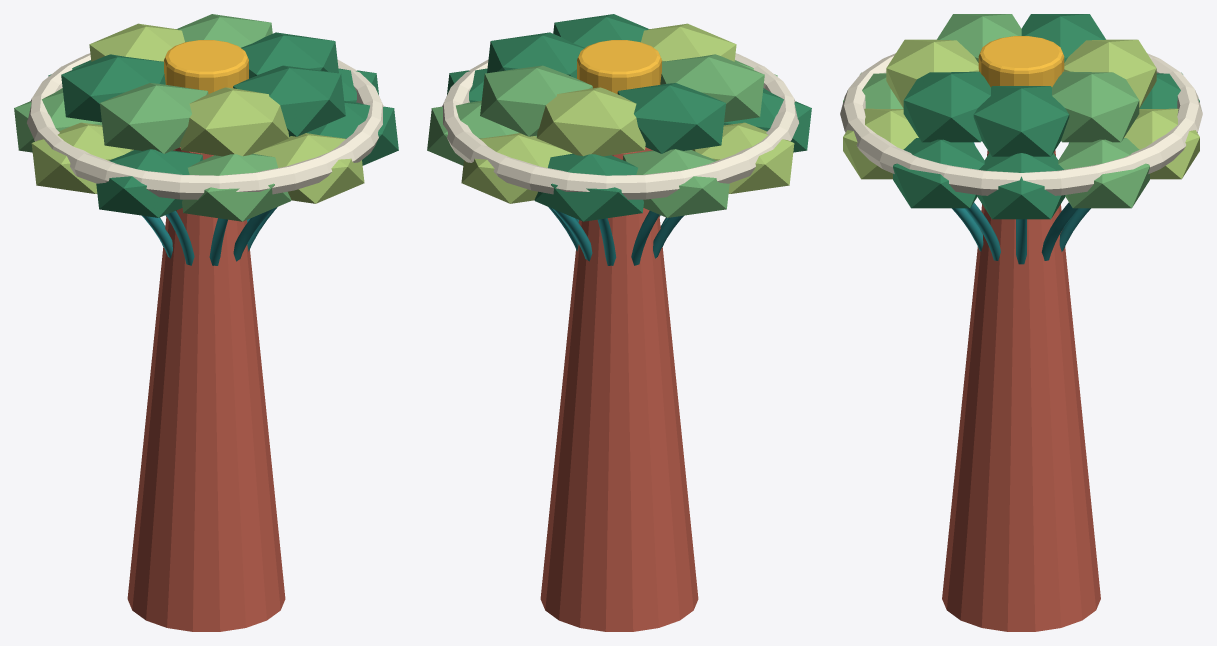
File: supertree-v2.glb
3 renders of one model, left to right at view 1: azimuth 30°, elevation 25°; view 2: azimuth 150°, elevation 25°; view 3: azimuth 270°, elevation 25°, orthographic.
Parts seen in each view (by area): view 1: SUPERTREE GROVE KIT · Terracotta, SUPERTREE GROVE KIT · Plant deep, SUPERTREE GROVE KIT · Plant lime, SUPERTREE GROVE KIT · Plant mid, SUPERTREE GROVE KIT · Chalk, SUPERTREE GROVE KIT · Signal yellow, SUPERTREE GROVE KIT · Deep teal; view 2: SUPERTREE GROVE KIT · Terracotta, SUPERTREE GROVE KIT · Plant deep, SUPERTREE GROVE KIT · Plant lime, SUPERTREE GROVE KIT · Plant mid, SUPERTREE GROVE KIT · Chalk, SUPERTREE GROVE KIT · Signal yellow, SUPERTREE GROVE KIT · Deep teal; view 3: SUPERTREE GROVE KIT · Terracotta, SUPERTREE GROVE KIT · Plant deep, SUPERTREE GROVE KIT · Plant mid, SUPERTREE GROVE KIT · Plant lime, SUPERTREE GROVE KIT · Chalk, SUPERTREE GROVE KIT · Signal yellow, SUPERTREE GROVE KIT · Deep teal.
Boxes of the visible parts, x1=… form: SUPERTREE GROVE KIT · Terracotta: x1=127, y1=147, x2=285, y2=631; SUPERTREE GROVE KIT · Plant deep: x1=48, y1=32, x2=398, y2=217; SUPERTREE GROVE KIT · Plant lime: x1=31, y1=23, x2=364, y2=203; SUPERTREE GROVE KIT · Plant mid: x1=14, y1=14, x2=291, y2=221; SUPERTREE GROVE KIT · Chalk: x1=27, y1=53, x2=383, y2=199; SUPERTREE GROVE KIT · Signal yellow: x1=164, y1=40, x2=248, y2=93; SUPERTREE GROVE KIT · Deep teal: x1=142, y1=207, x2=277, y2=265; SUPERTREE GROVE KIT · Terracotta: x1=540, y1=147, x2=698, y2=631; SUPERTREE GROVE KIT · Plant deep: x1=447, y1=14, x2=811, y2=221; SUPERTREE GROVE KIT · Plant lime: x1=461, y1=23, x2=794, y2=203; SUPERTREE GROVE KIT · Plant mid: x1=427, y1=54, x2=777, y2=217; SUPERTREE GROVE KIT · Chalk: x1=442, y1=53, x2=798, y2=199; SUPERTREE GROVE KIT · Signal yellow: x1=577, y1=40, x2=661, y2=93; SUPERTREE GROVE KIT · Deep teal: x1=548, y1=207, x2=683, y2=265; SUPERTREE GROVE KIT · Terracotta: x1=942, y1=150, x2=1100, y2=631; SUPERTREE GROVE KIT · Plant deep: x1=893, y1=14, x2=1199, y2=219; SUPERTREE GROVE KIT · Plant mid: x1=843, y1=14, x2=1149, y2=208; SUPERTREE GROVE KIT · Plant lime: x1=843, y1=39, x2=1199, y2=179; SUPERTREE GROVE KIT · Chalk: x1=840, y1=53, x2=1202, y2=195; SUPERTREE GROVE KIT · Signal yellow: x1=978, y1=36, x2=1064, y2=86; SUPERTREE GROVE KIT · Deep teal: x1=952, y1=142, x2=1090, y2=264.
Size of the model in its own units: 3.88 by 5.94 by 3.56.
